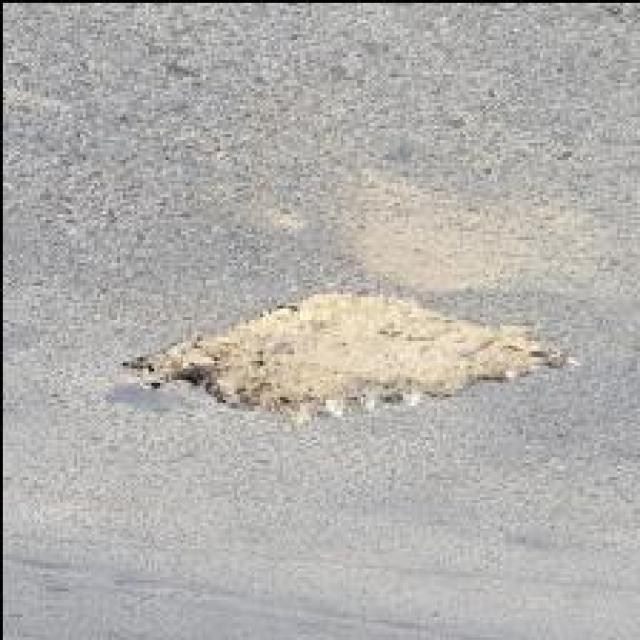BACHE: (122, 292, 571, 418), (336, 174, 612, 292)
